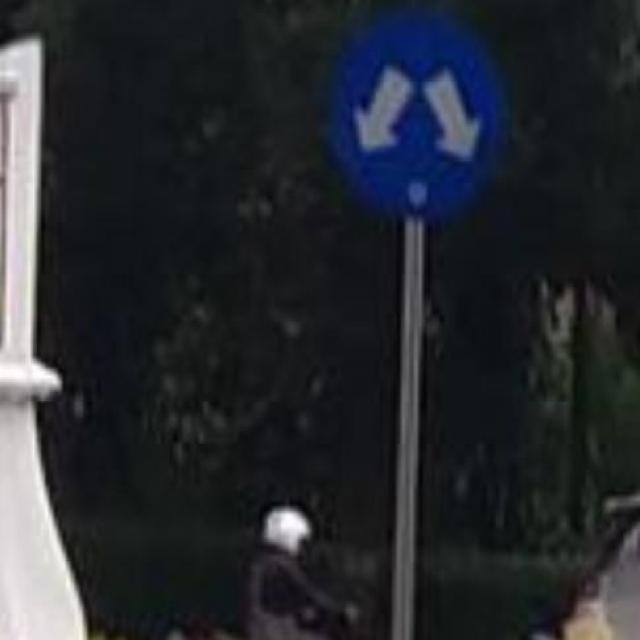traffic sign: (331, 17, 506, 221)
